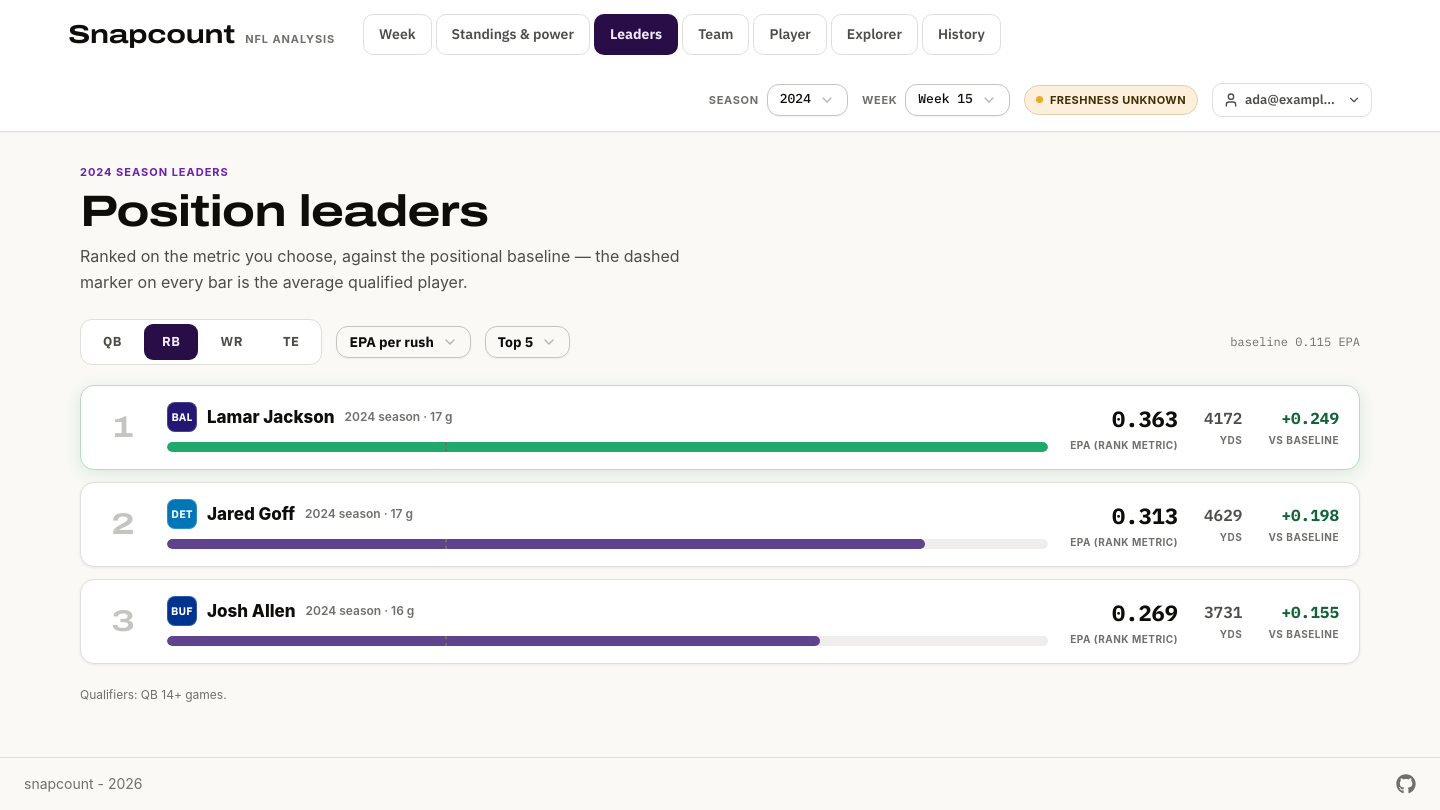
Scenario: /leaders route › names the metrics for the SELECTED position
Click the dropdown named "Metric": (404, 342) top-left (336, 326), bottom-right (471, 358)
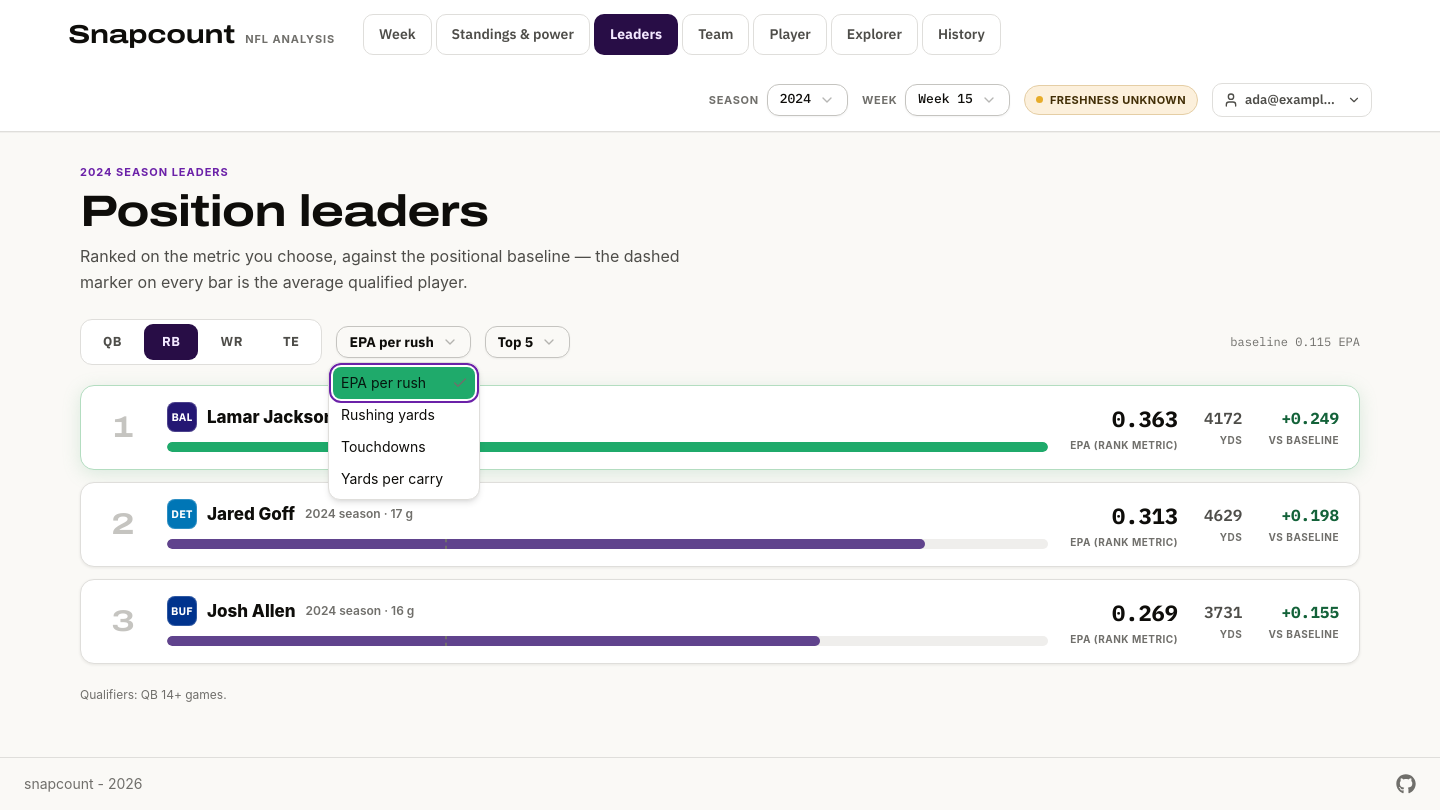
Check: the options read "EPA per rush", "Rushing yards", "Touchdowns", "Yards per carry", in this order, box top-left (333, 367), bottom-right (475, 399); top-left (341, 406), bottom-right (435, 423); top-left (341, 438), bottom-right (426, 455); top-left (341, 470), bottom-right (443, 487)
